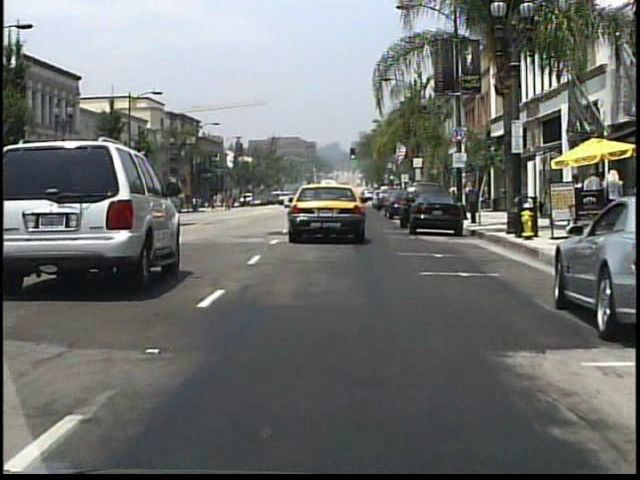person: (580, 168, 606, 227), (604, 168, 626, 227), (565, 171, 584, 227), (241, 193, 249, 209)
